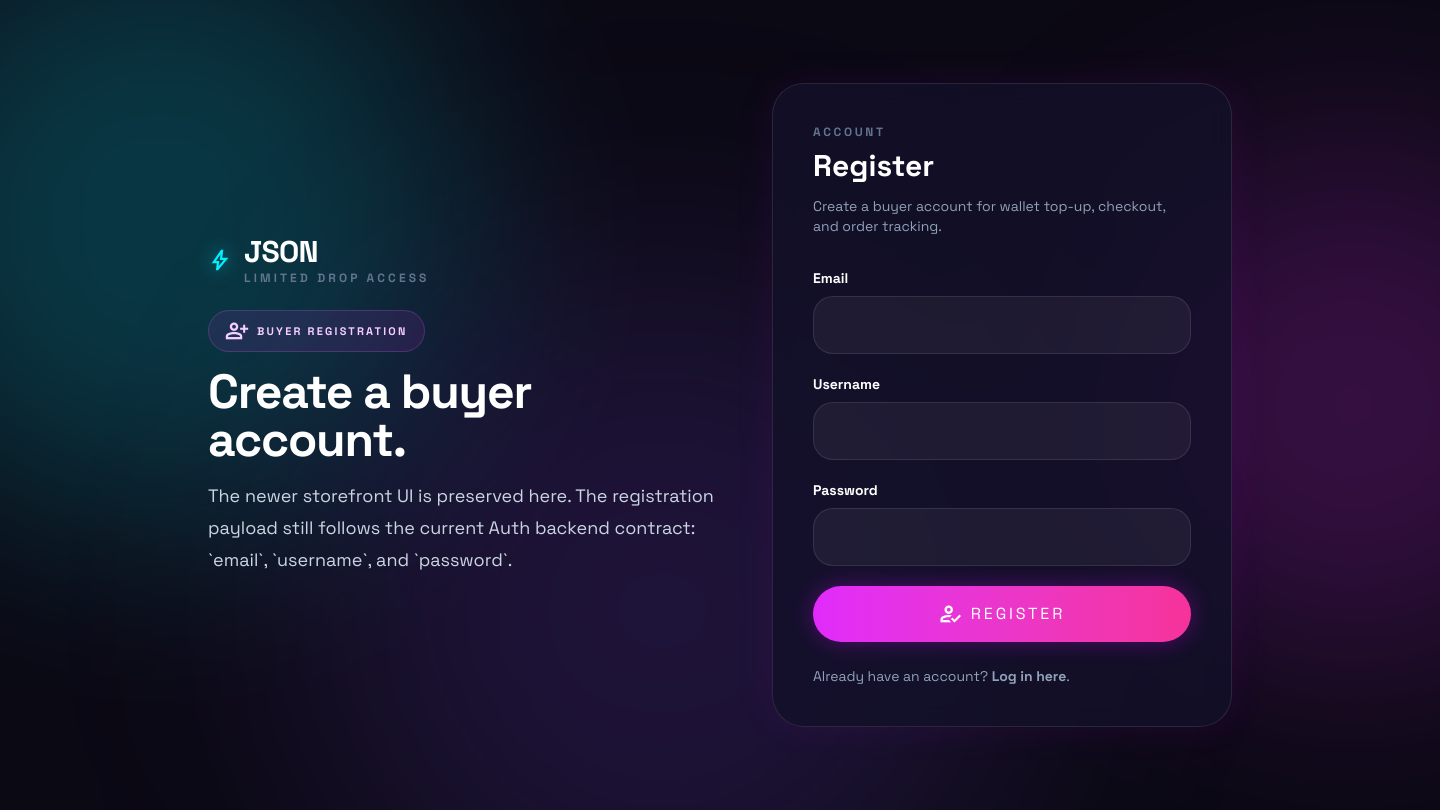
frontend milestone flow › registers a user and redirects to login with a success message
Type "new@json.app" into the field labelled "Email" at {"x": 1002, "y": 325}, box [813,296,1191,354]
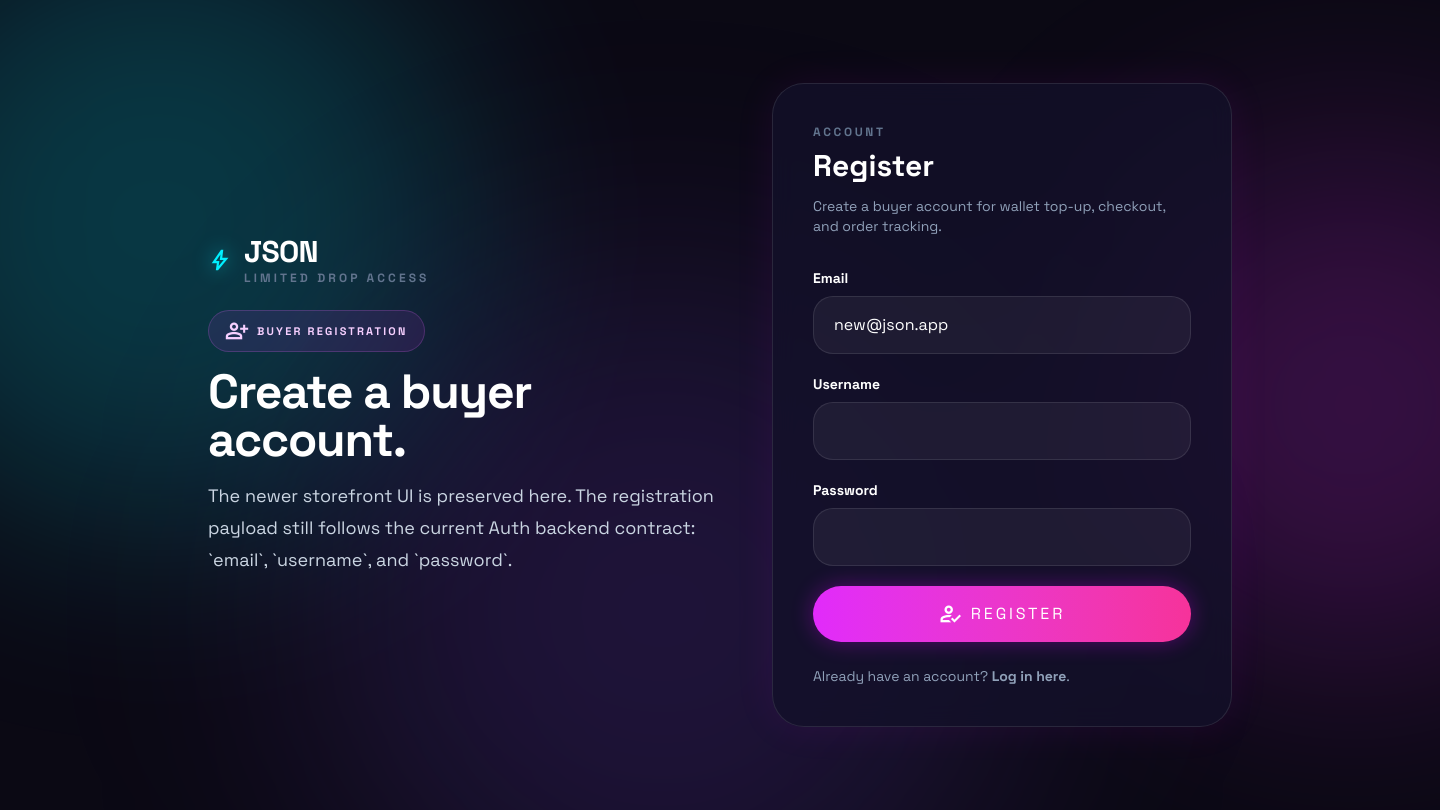
Type "new-user" into the field labelled "Username" at {"x": 1002, "y": 431}, box [813,402,1191,460]
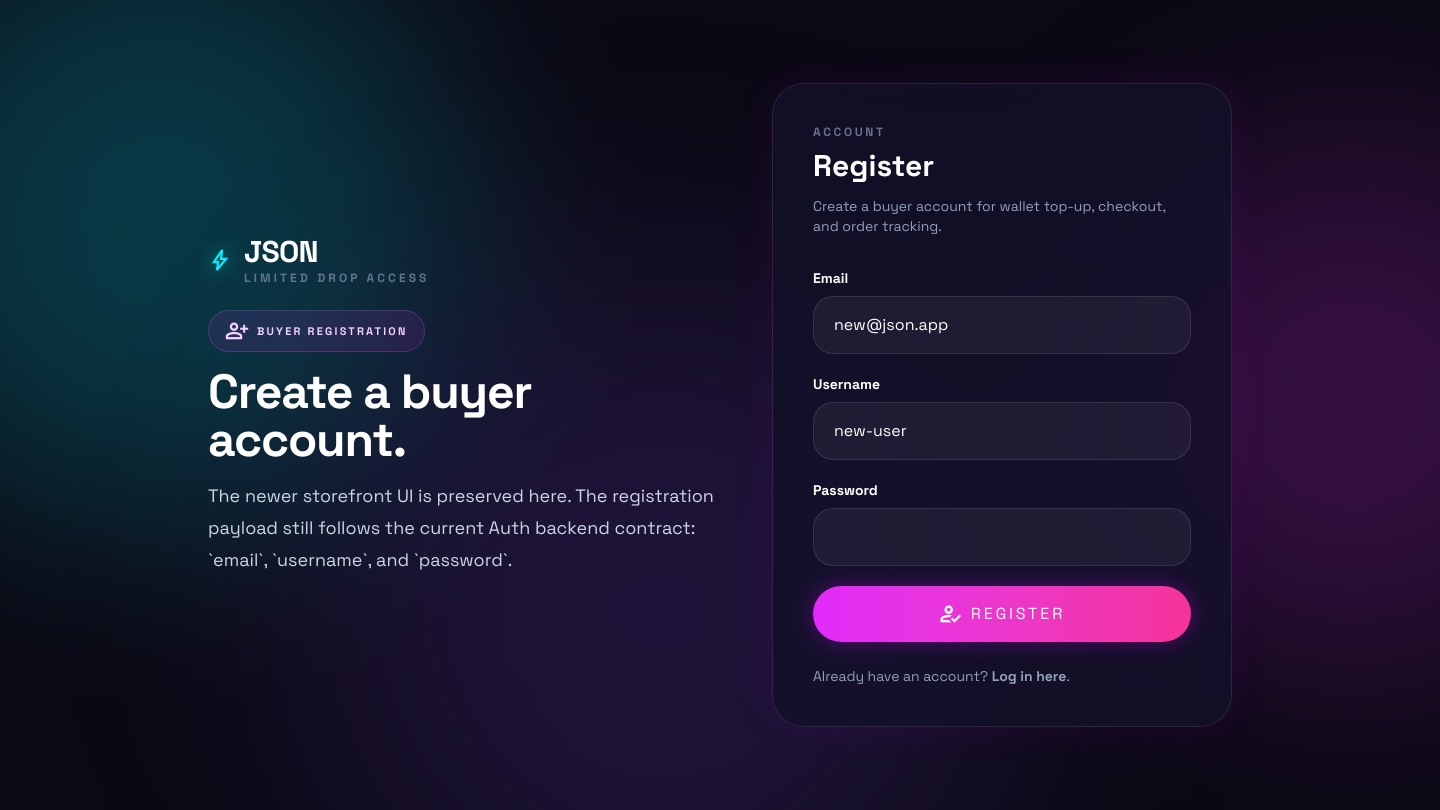
Type "Password123!" into the password field labelled "Password" at {"x": 1002, "y": 537}, box [813,508,1191,566]
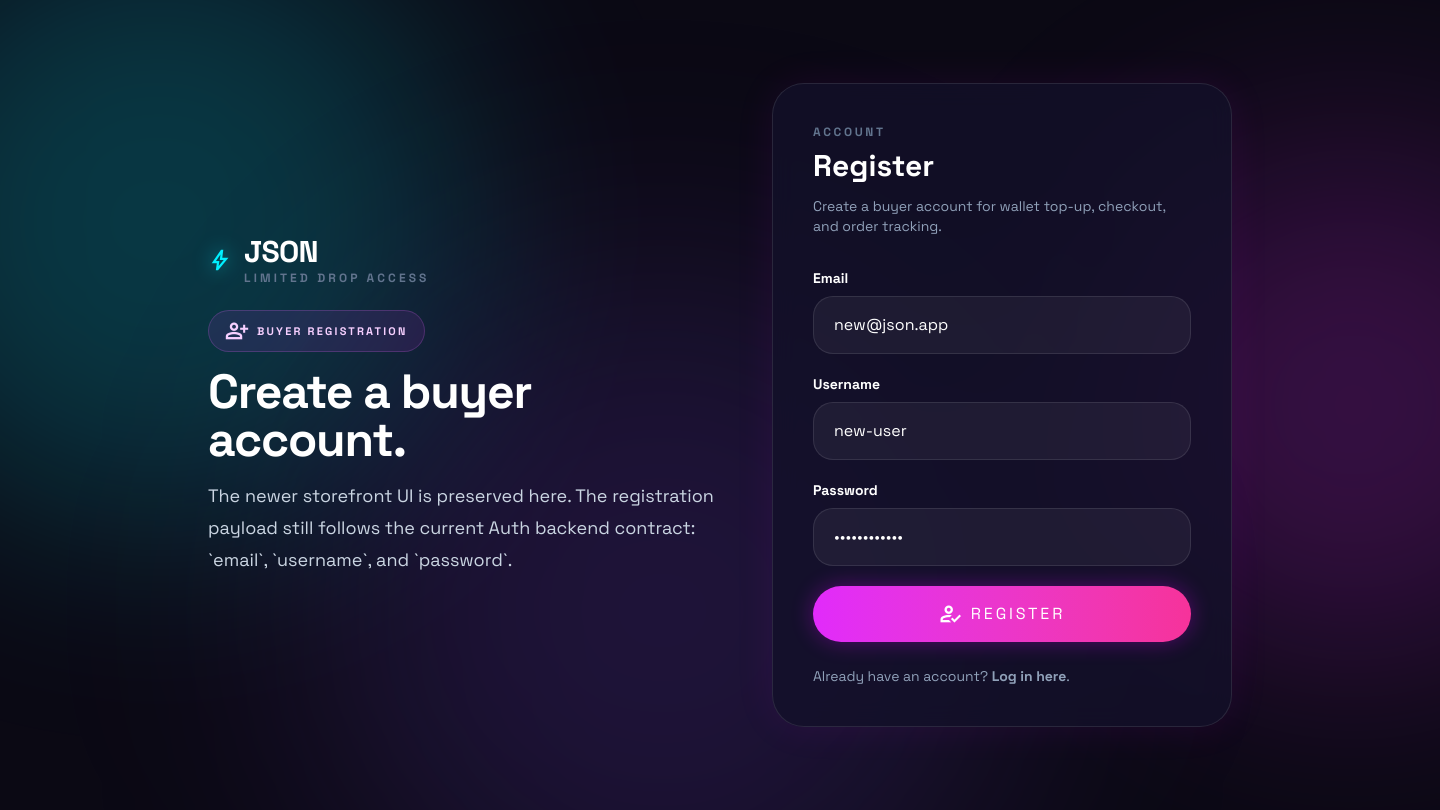
Click the button "Register" at {"x": 1002, "y": 614}, box [813,586,1191,642]
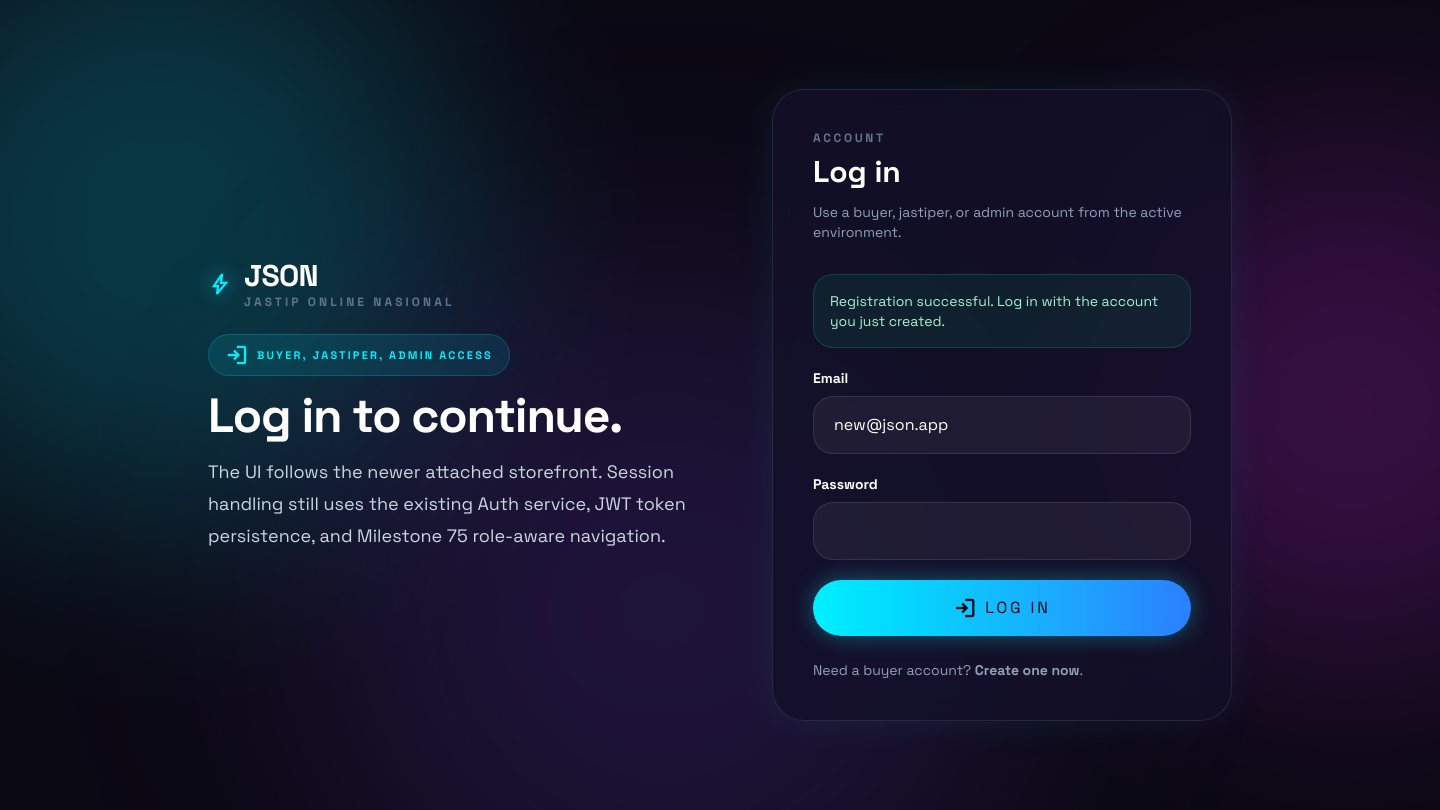
Now the heading "Log in" is shown, box [813,152,901,191]
Now the field showing "new@json.app" is shown, box [813,396,1191,454]
